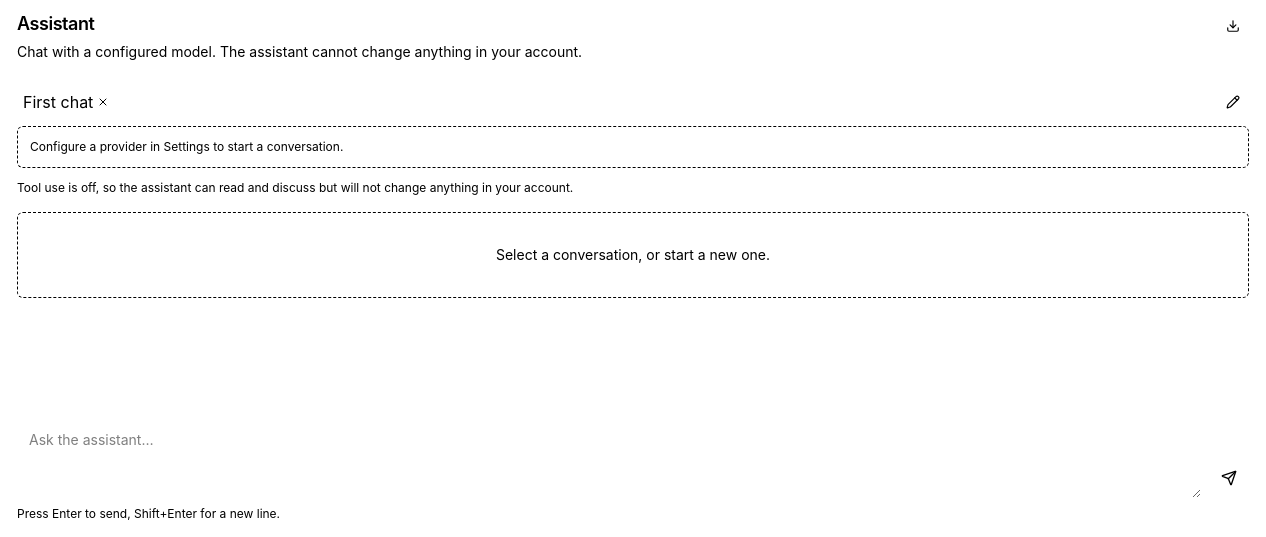
Test: a refused rename shows the backend's message and keeps the field open
The width and height of the screenshot is (1266, 537).
expect the element with test id "ai-transcript" is shown: met, box [17, 212, 1249, 298]
Step 1. Click the button named "Rename conversation: First chat" → (1233,102), box [1217, 86, 1249, 118]
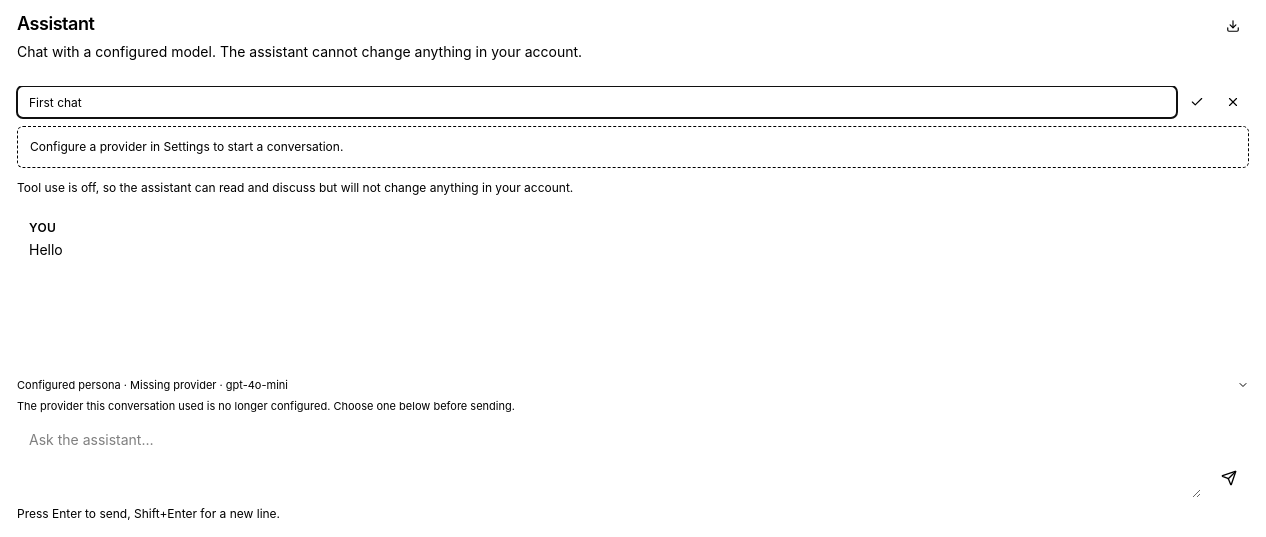
Step 2. Replace the text in the field named "Rename conversation: First chat" with "a very long title" → (597,102), box [17, 86, 1177, 118]
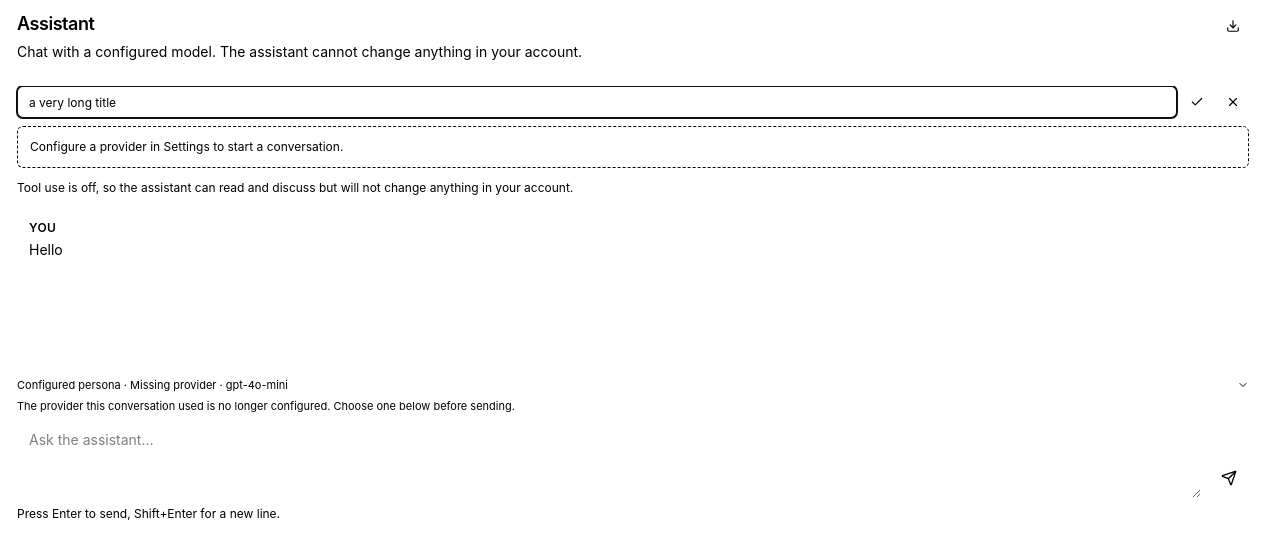
Step 3. Click the button named "Save the title for First chat" → (1197,102), box [1181, 86, 1213, 118]
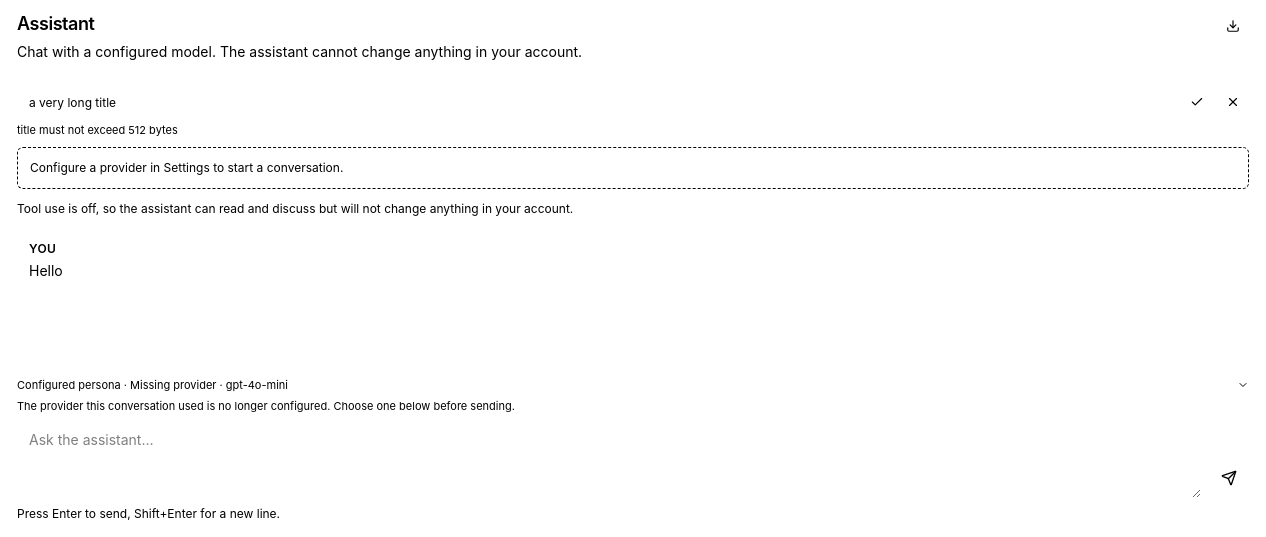
expect the message with test id "ai-conversation-rename-error" reads "title must not exceed 512 bytes": met, box [17, 123, 178, 137]
